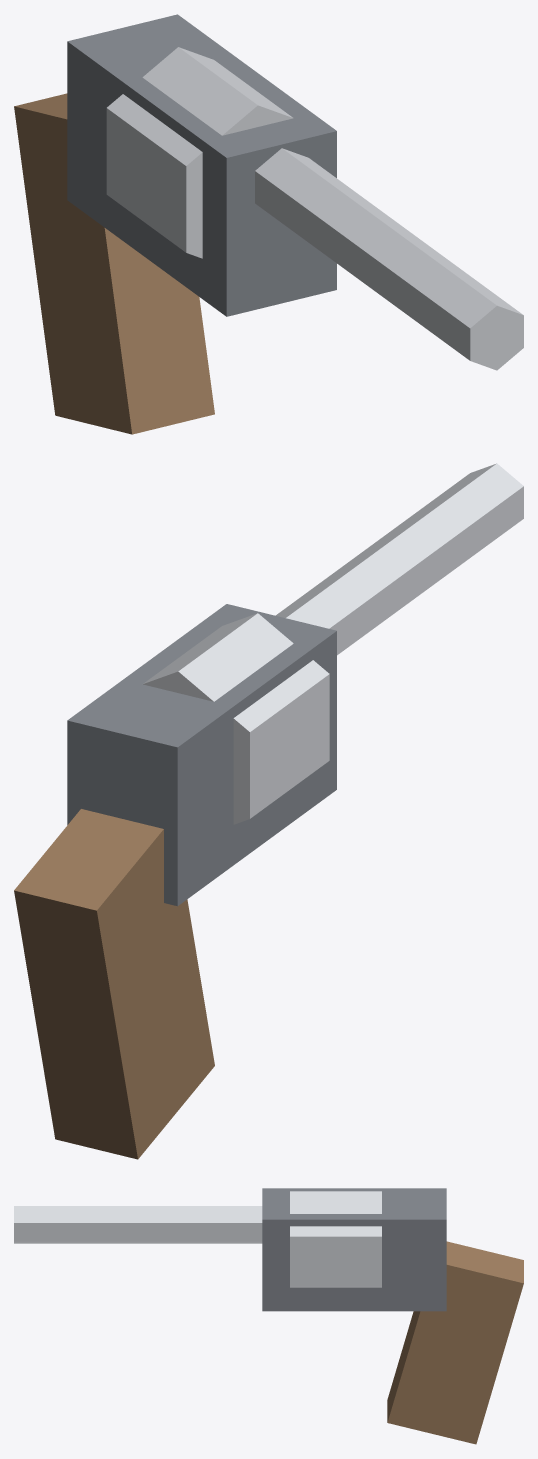
Rendered from Revolver.fbx.
3 views of the same model, one above another, from view 1: azimuth 30°, elevation 25°; view 2: azimuth 150°, elevation 25°; view 3: azimuth 270°, elevation 25° (orthographic). The views are drawn at different scales.
Parts seen in each view (by area): view 1: Body; view 2: Body; view 3: Body.
Boxes of the visible parts, x1,y1,x2,y2 form: Body: (14,14,523,434); Body: (14,463,523,1159); Body: (14,1188,523,1444).
Size of the model in its own units: 0.1039 by 0.2895 by 0.5542.
